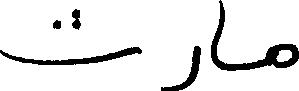X: (0, 4, 140, 69), (160, 41, 200, 90), (267, 39, 298, 72), (212, 0, 224, 74)
